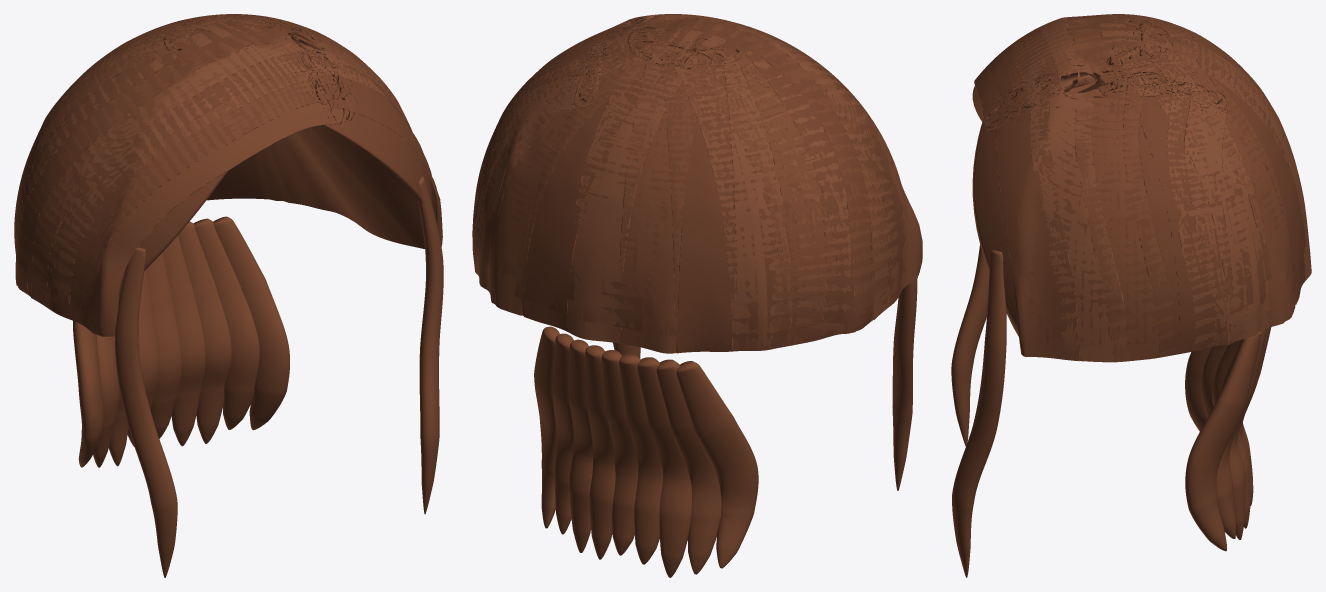
The model's file is Feminine-straight-covered248-hair.glb.
3 views of the same model, side by side, from view 1: azimuth 30°, elevation 25°; view 2: azimuth 150°, elevation 25°; view 3: azimuth 270°, elevation 25° (orthographic). The views are drawn at different scales.
Parts seen in each view (by area): view 1: 226 hair / Hair / sculpted 0.002, 226 hair / Hair / sculpted 1.003, 226 hair / Hair / sculpted 1.004, 226 hair / Hair / sculpted 2.002; view 2: 226 hair / Hair / sculpted 0.002, 226 hair / Hair / sculpted 2.002, 226 hair / Hair / sculpted 1.004, 226 hair / Hair / sculpted 1.003; view 3: 226 hair / Hair / sculpted 0.002, 226 hair / Hair / sculpted 1.004, 226 hair / Hair / sculpted 2.002, 226 hair / Hair / sculpted 1.003.
Boxes of the visible parts, bbox=[...] form: 226 hair / Hair / sculpted 0.002: bbox=[14, 14, 443, 577]; 226 hair / Hair / sculpted 1.003: bbox=[14, 14, 432, 305]; 226 hair / Hair / sculpted 1.004: bbox=[14, 14, 442, 322]; 226 hair / Hair / sculpted 2.002: bbox=[14, 14, 412, 309]; 226 hair / Hair / sculpted 0.002: bbox=[488, 14, 922, 577]; 226 hair / Hair / sculpted 2.002: bbox=[472, 14, 898, 350]; 226 hair / Hair / sculpted 1.004: bbox=[472, 14, 908, 353]; 226 hair / Hair / sculpted 1.003: bbox=[473, 20, 904, 351]; 226 hair / Hair / sculpted 0.002: bbox=[951, 14, 1295, 577]; 226 hair / Hair / sculpted 1.004: bbox=[989, 14, 1305, 361]; 226 hair / Hair / sculpted 2.002: bbox=[1010, 14, 1311, 362]; 226 hair / Hair / sculpted 1.003: bbox=[972, 14, 1305, 358].
Bounding box in the file's own units: 0.9592 × 1.15 × 0.7775.
